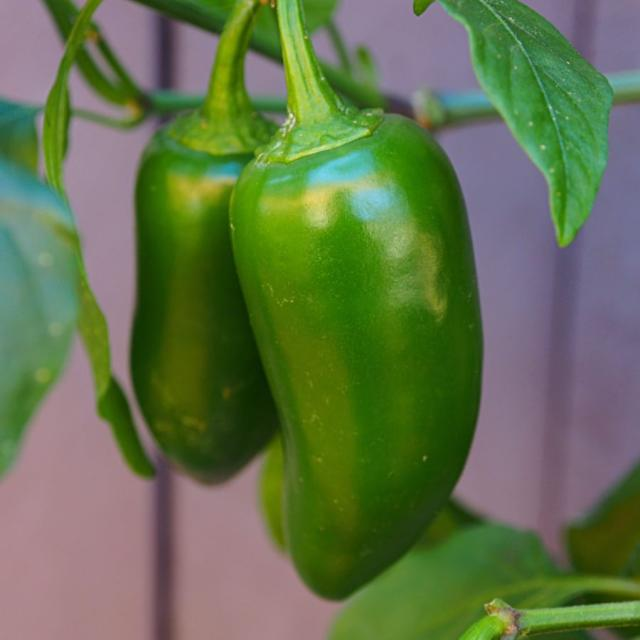aji: (135, 83, 549, 630)
